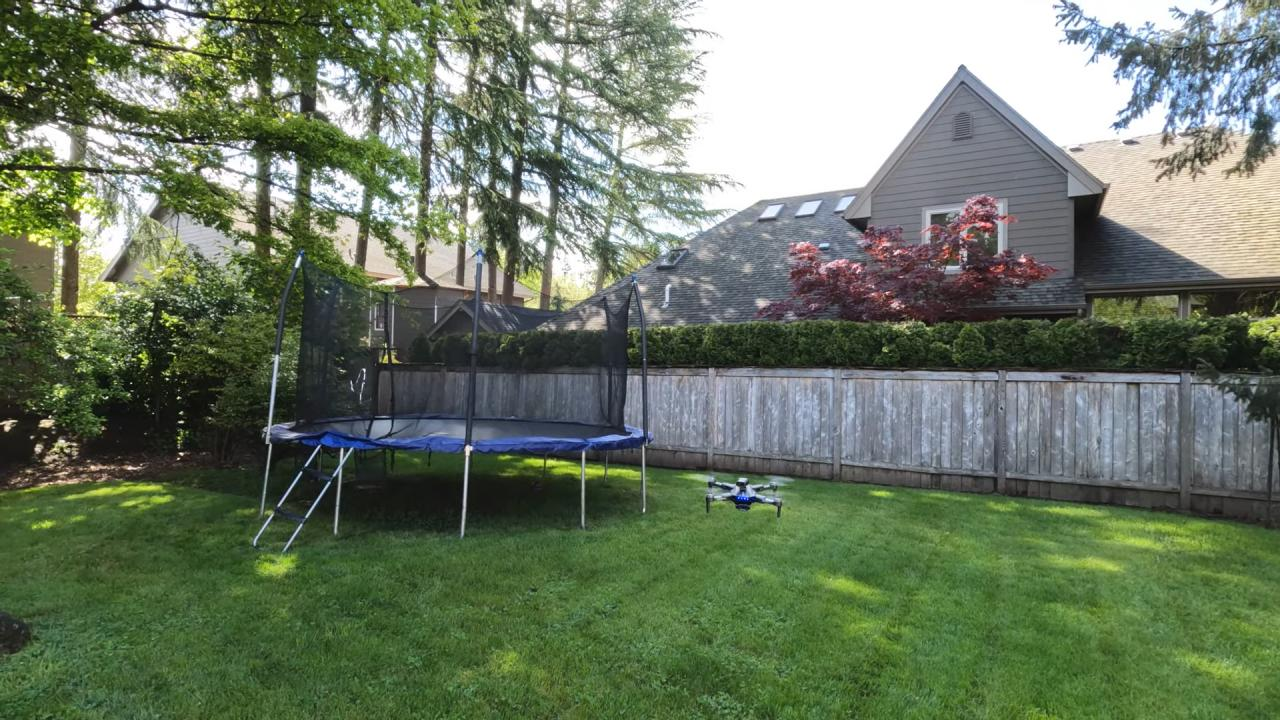Drone: (681, 461, 797, 528)
